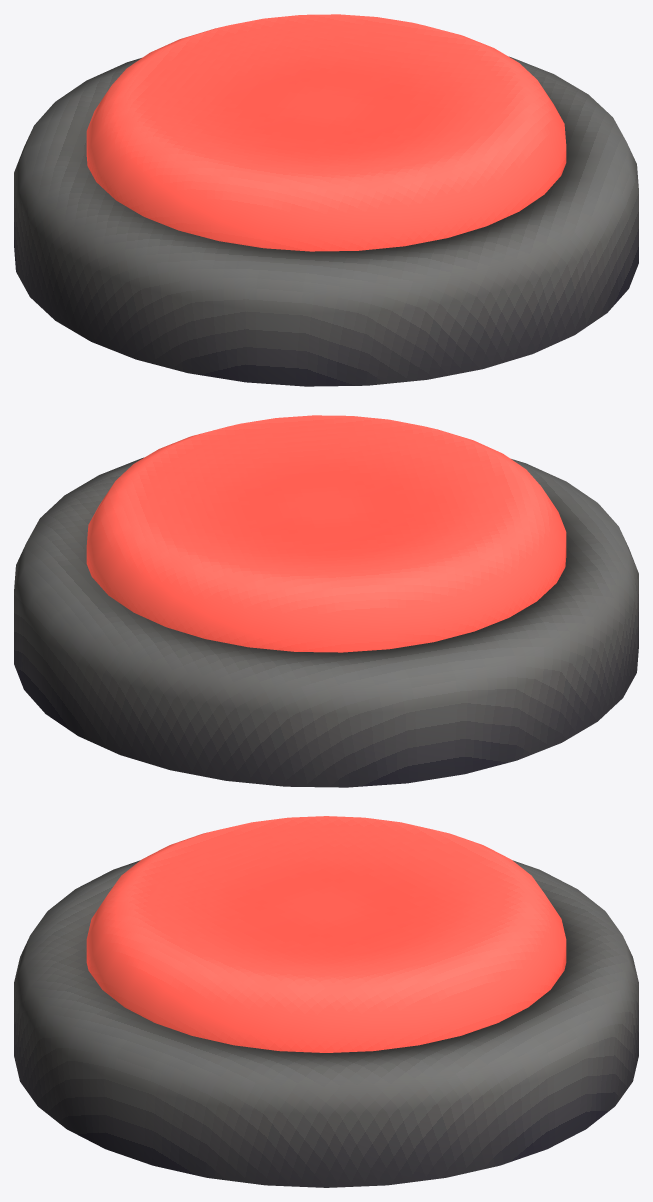
The model's file is button.glb.
The picture shows the model from 3 angles, top to bottom: view 1: azimuth 30°, elevation 25°; view 2: azimuth 150°, elevation 25°; view 3: azimuth 270°, elevation 25°; orthographic projection.
Visible parts, largest first — view 1: Cylinder, Cylinder.001; view 2: Cylinder, Cylinder.001; view 3: Cylinder, Cylinder.001.
Boxes of the visible parts, box(x1,y1,x2,y2) form: Cylinder: box(14, 56, 638, 386); Cylinder.001: box(86, 14, 566, 251); Cylinder: box(14, 457, 638, 787); Cylinder.001: box(86, 415, 566, 652); Cylinder: box(14, 860, 638, 1187); Cylinder.001: box(86, 816, 566, 1052).
Bounding box in the file's own units: 2 × 0.5559 × 2.
Materials: 2 (2 with a texture image).
